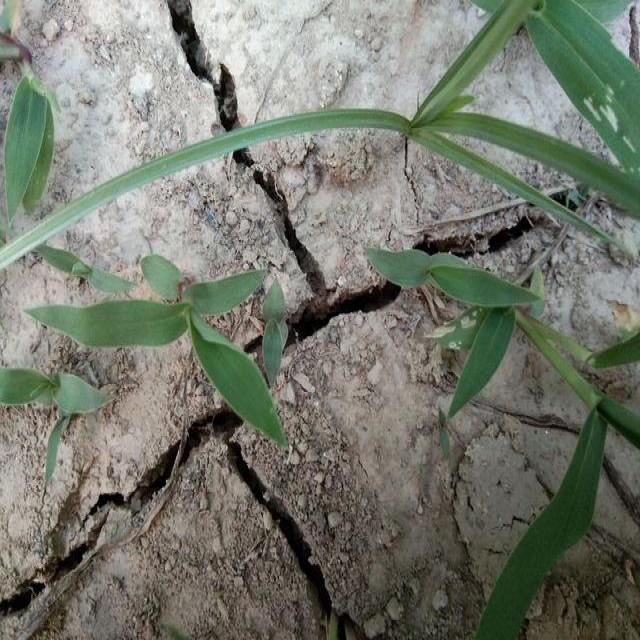weed: (423, 0, 640, 252), (30, 277, 329, 448), (18, 109, 430, 189), (540, 315, 640, 640), (485, 0, 640, 161), (365, 251, 534, 327), (473, 532, 559, 640), (430, 312, 519, 408), (8, 78, 60, 228), (0, 378, 106, 443), (44, 248, 134, 308)
